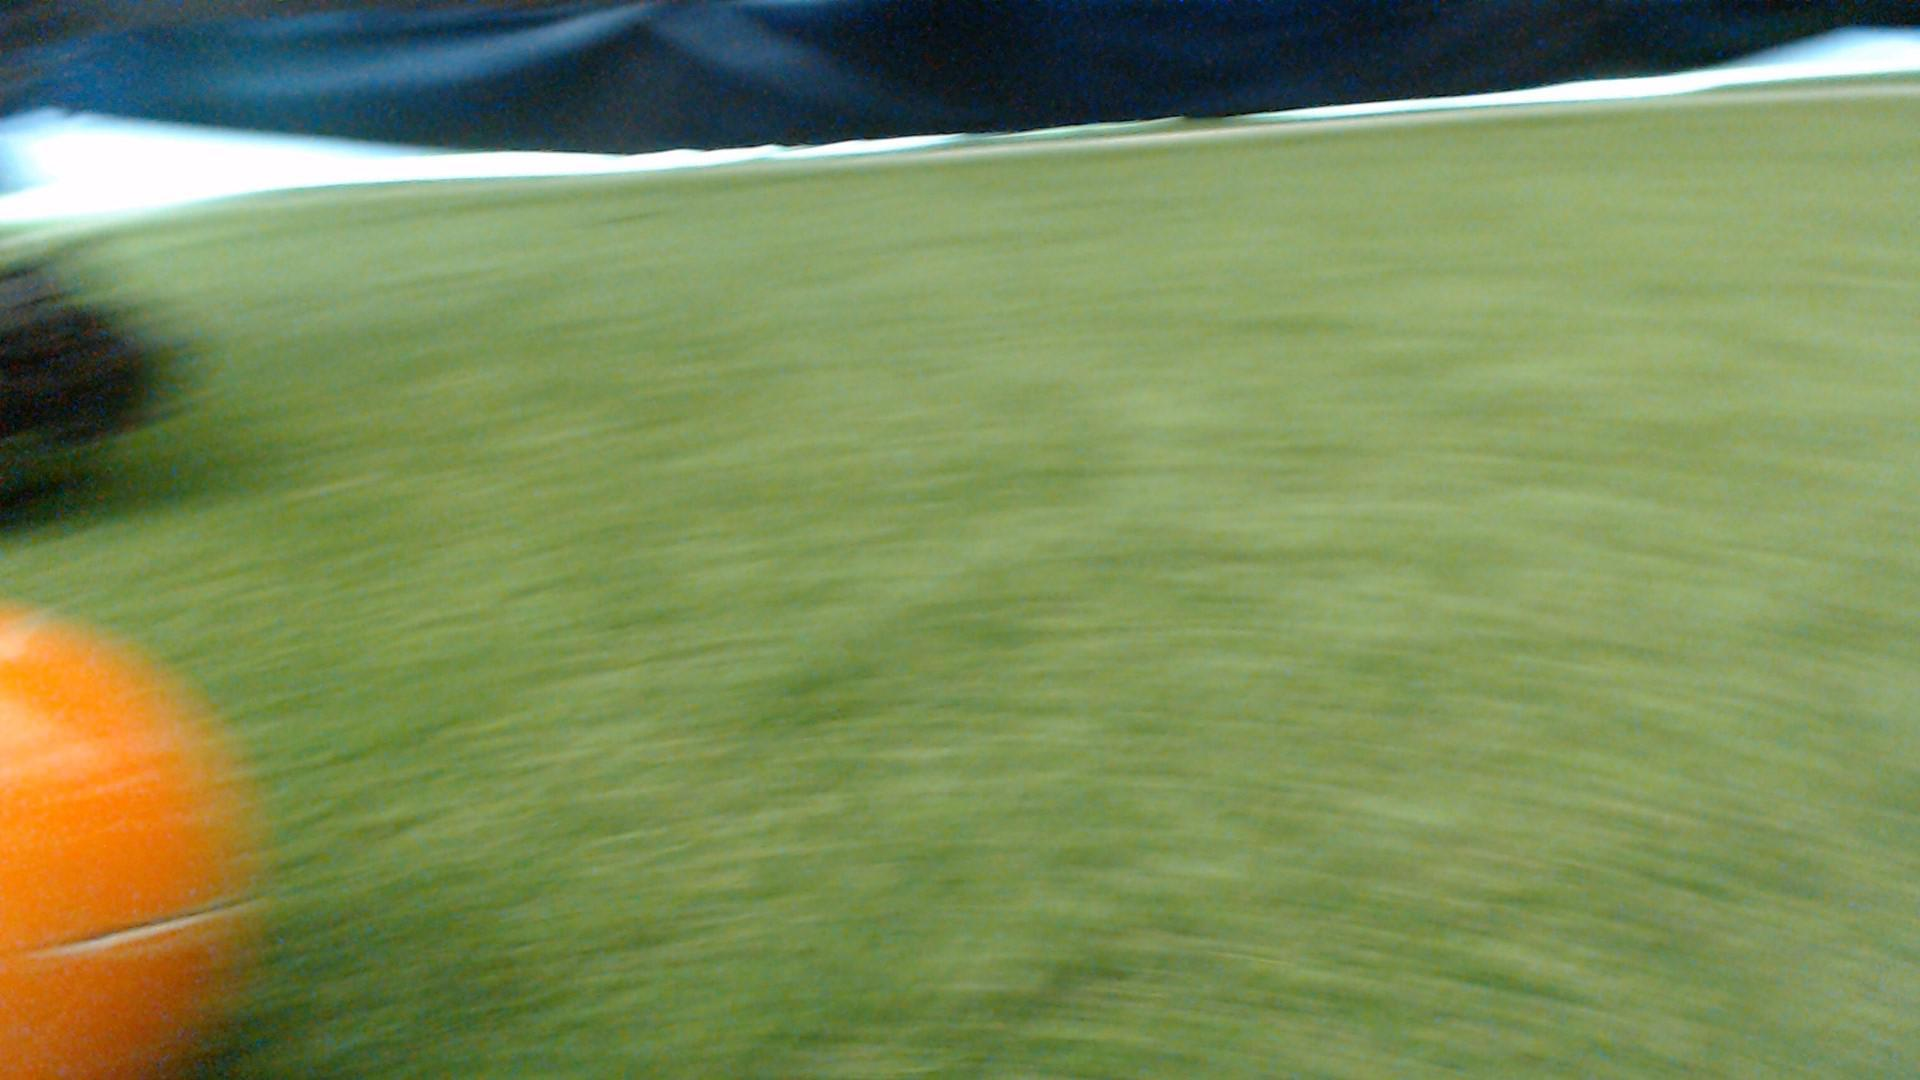bola: (0, 585, 301, 1076)
